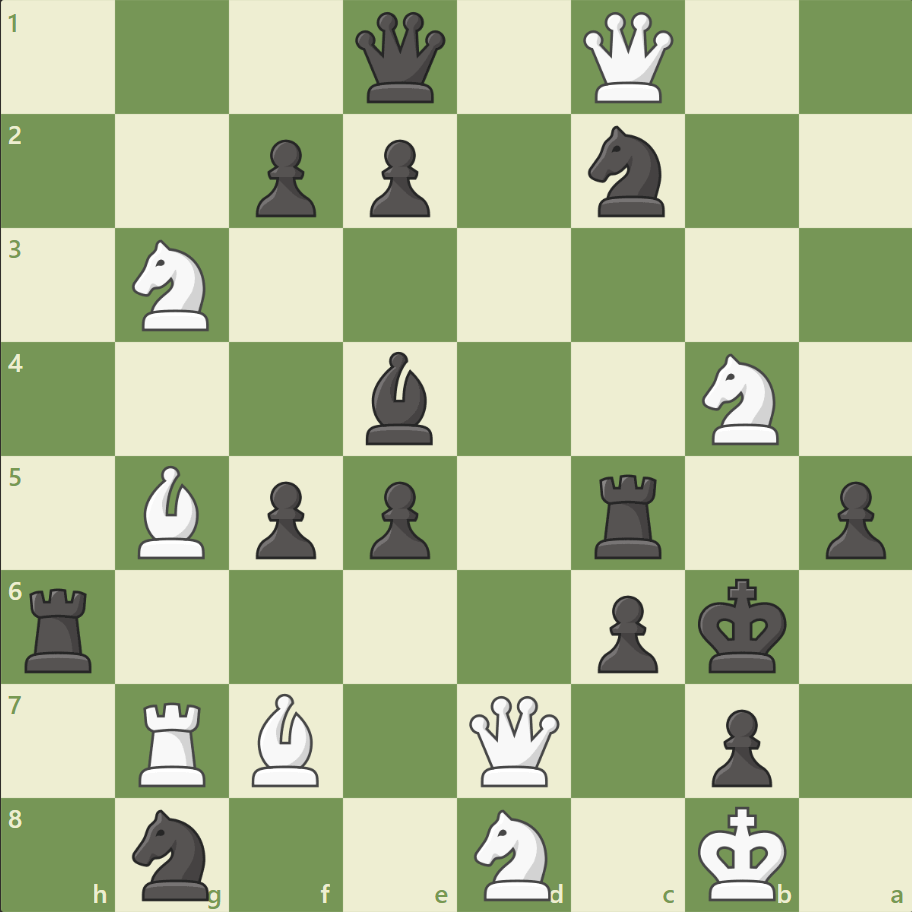B: (244, 687, 328, 790), (131, 460, 215, 563)
K: (692, 798, 792, 906)
N: (124, 234, 222, 337), (465, 802, 562, 904), (692, 348, 789, 450)
Q: (464, 690, 563, 789), (578, 9, 677, 108)
R: (133, 693, 215, 790)
b: (358, 347, 442, 449)
k: (692, 571, 792, 679)
n: (124, 802, 222, 904), (579, 121, 676, 223)
p: (701, 700, 776, 791), (247, 473, 322, 564), (247, 132, 322, 223), (588, 586, 662, 677), (815, 473, 889, 564), (361, 473, 435, 564), (361, 132, 435, 223)
q: (351, 9, 450, 108)
r: (19, 579, 102, 676), (587, 466, 670, 563)
